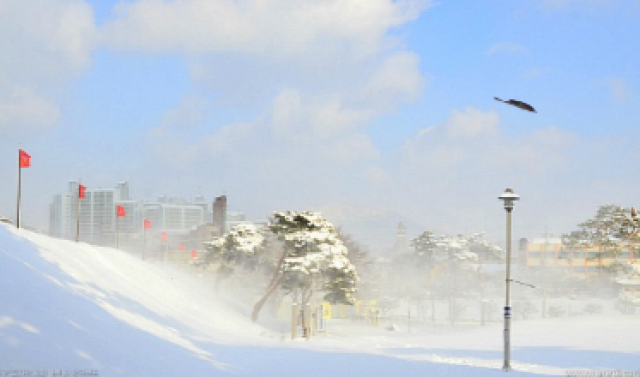military drone: (493, 96, 537, 113)
